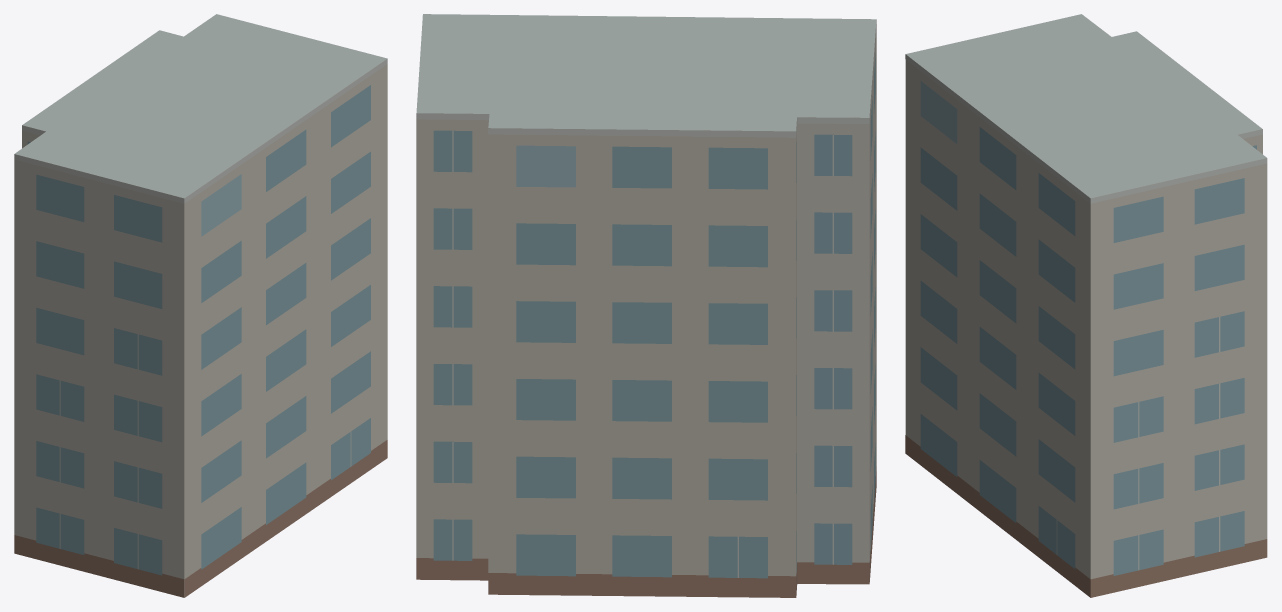
The model's file is survey-upis-32972205.glb.
3 views of the same model, side by side, from view 1: azimuth 30°, elevation 25°; view 2: azimuth 150°, elevation 25°; view 3: azimuth 270°, elevation 25° (orthographic). The views are drawn at different scales.
Parts seen in each view (by area): view 1: survey-upis-32972205.tmp; view 2: survey-upis-32972205.tmp; view 3: survey-upis-32972205.tmp.
Boxes of the visible parts, x1,y1,x2,y2 form: survey-upis-32972205.tmp: (14,14,387,597); survey-upis-32972205.tmp: (416,14,876,597); survey-upis-32972205.tmp: (905,14,1267,597).
Size of the model in its own units: 18.13 by 18.3 by 15.03.
